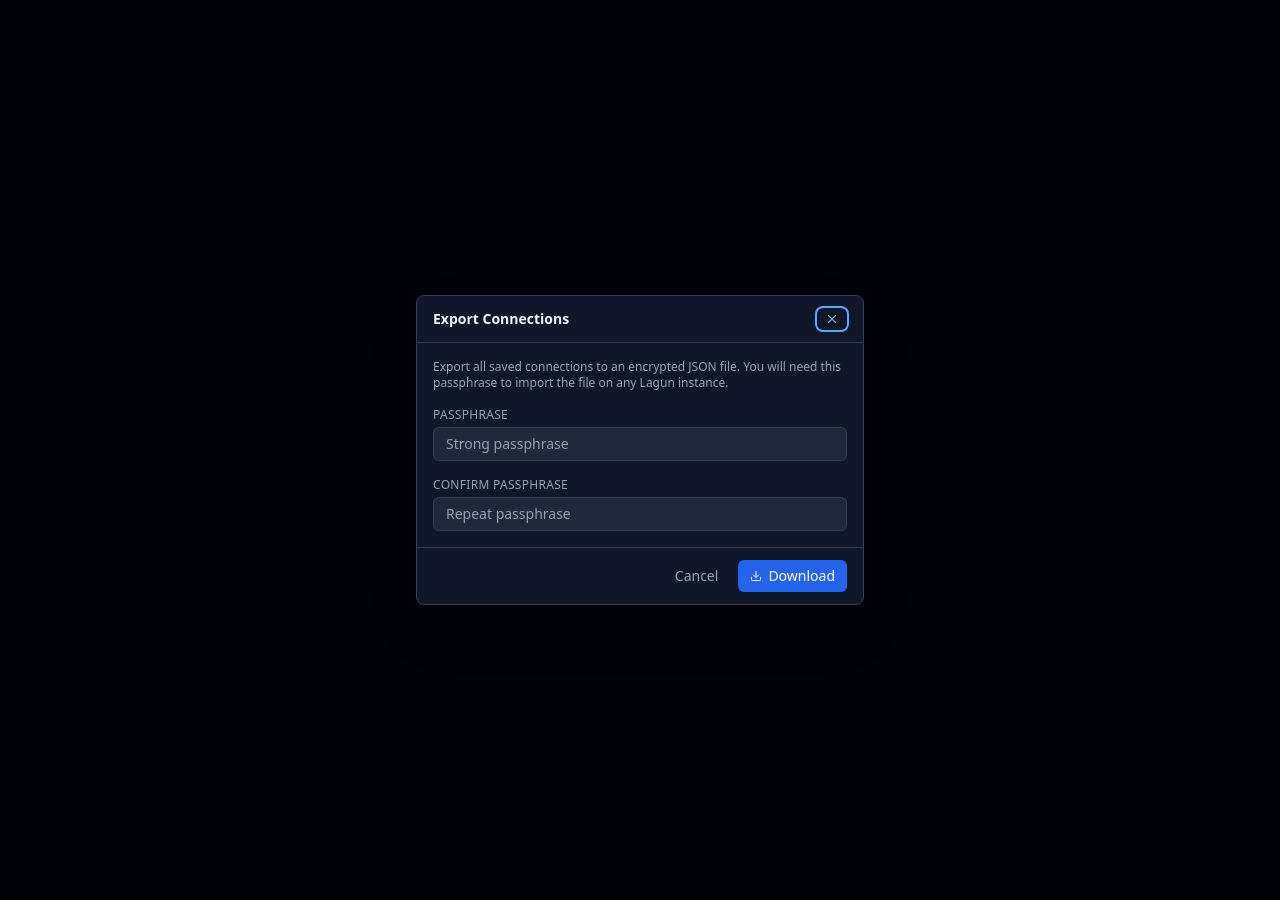
Test case: config dialogs loading announcements › announces an export in progress while the button keeps its label
The width and height of the screenshot is (1280, 900).
Type "hunter2" into the password field labelled "Passphrase".
click(640, 444); type("hunter2")  # box left=433, top=427, right=847, bottom=461
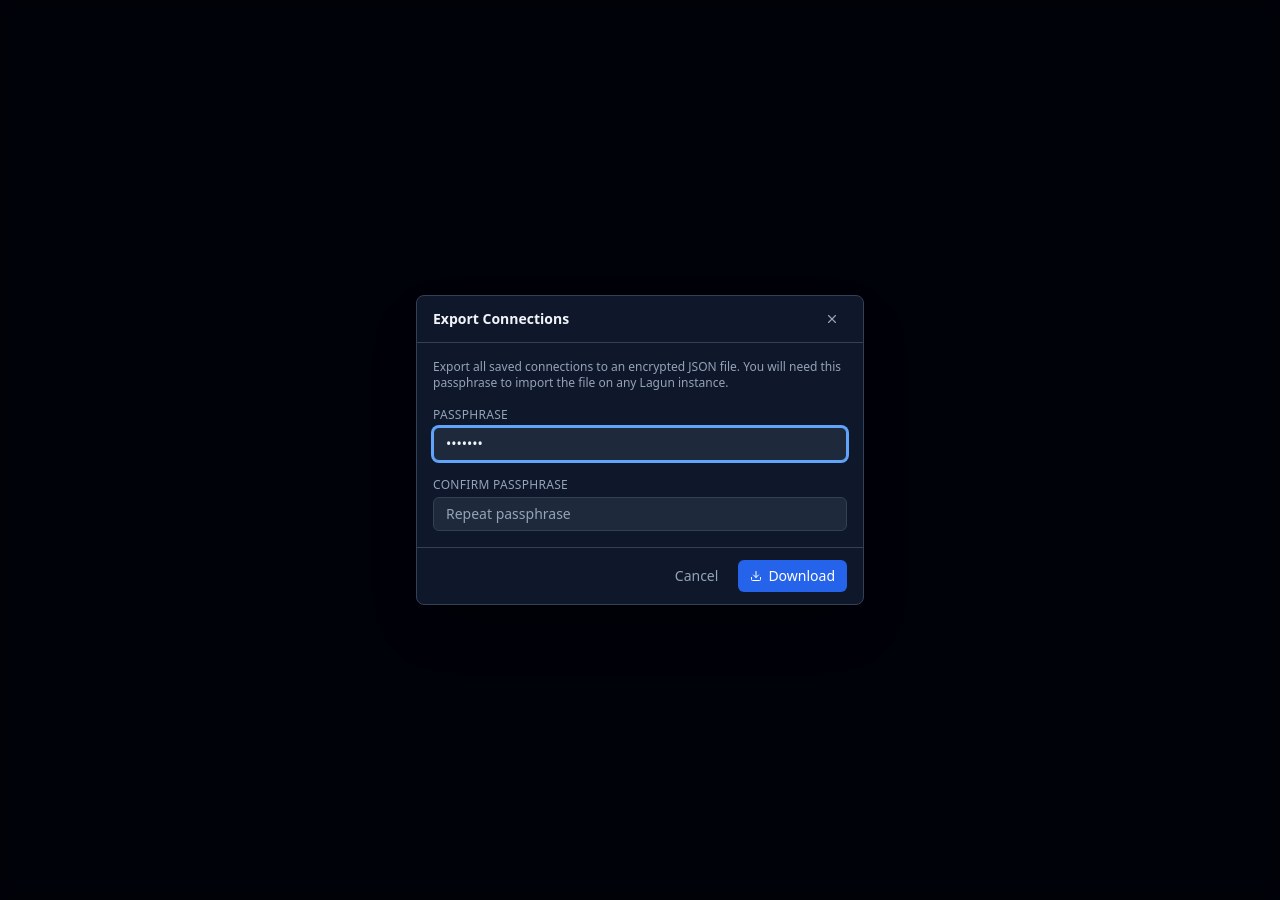
Type "hunter2" into the password field labelled "Confirm passphrase".
click(640, 514); type("hunter2")  # box left=433, top=497, right=847, bottom=531
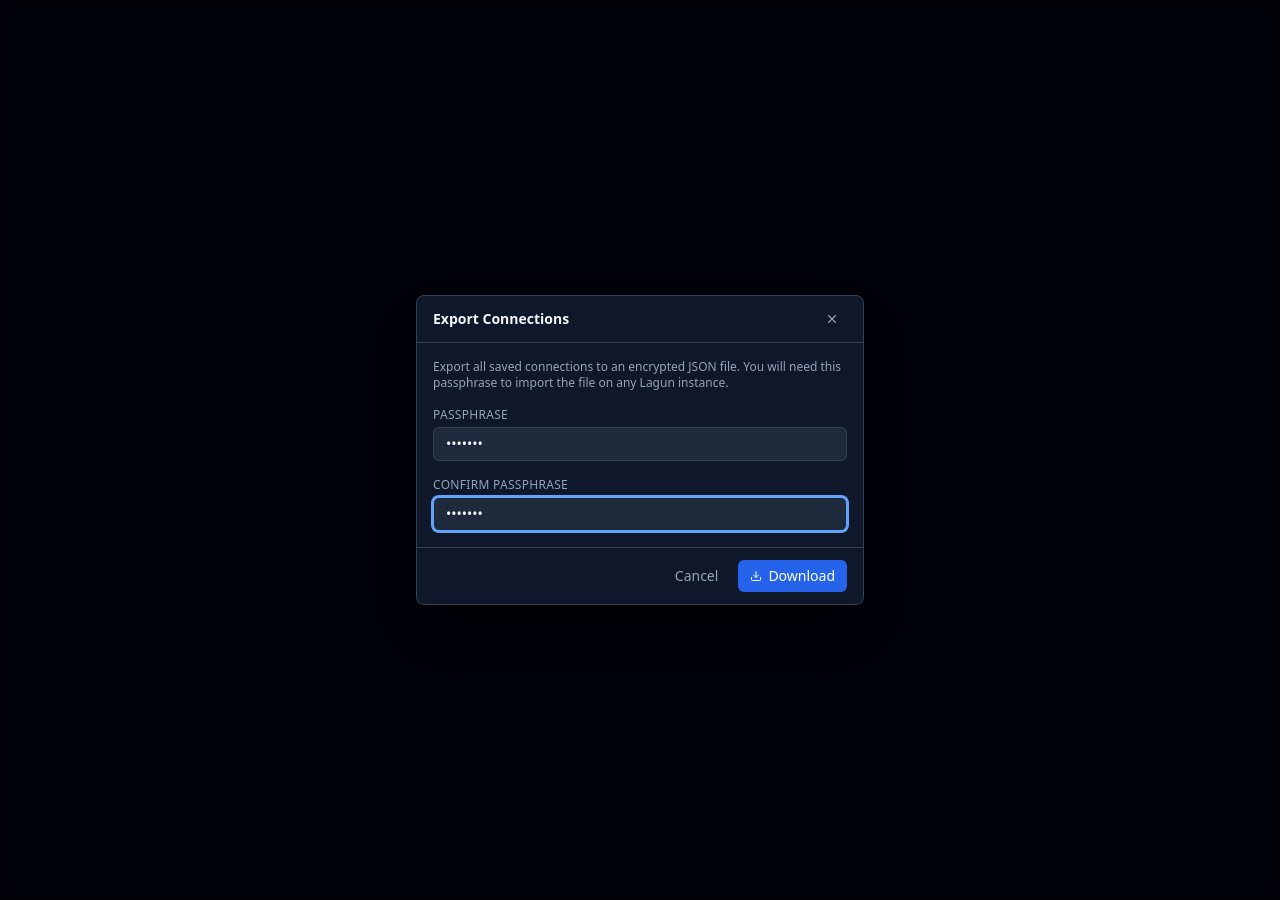
Click the button "Download".
click(793, 576)  # box left=738, top=560, right=847, bottom=592
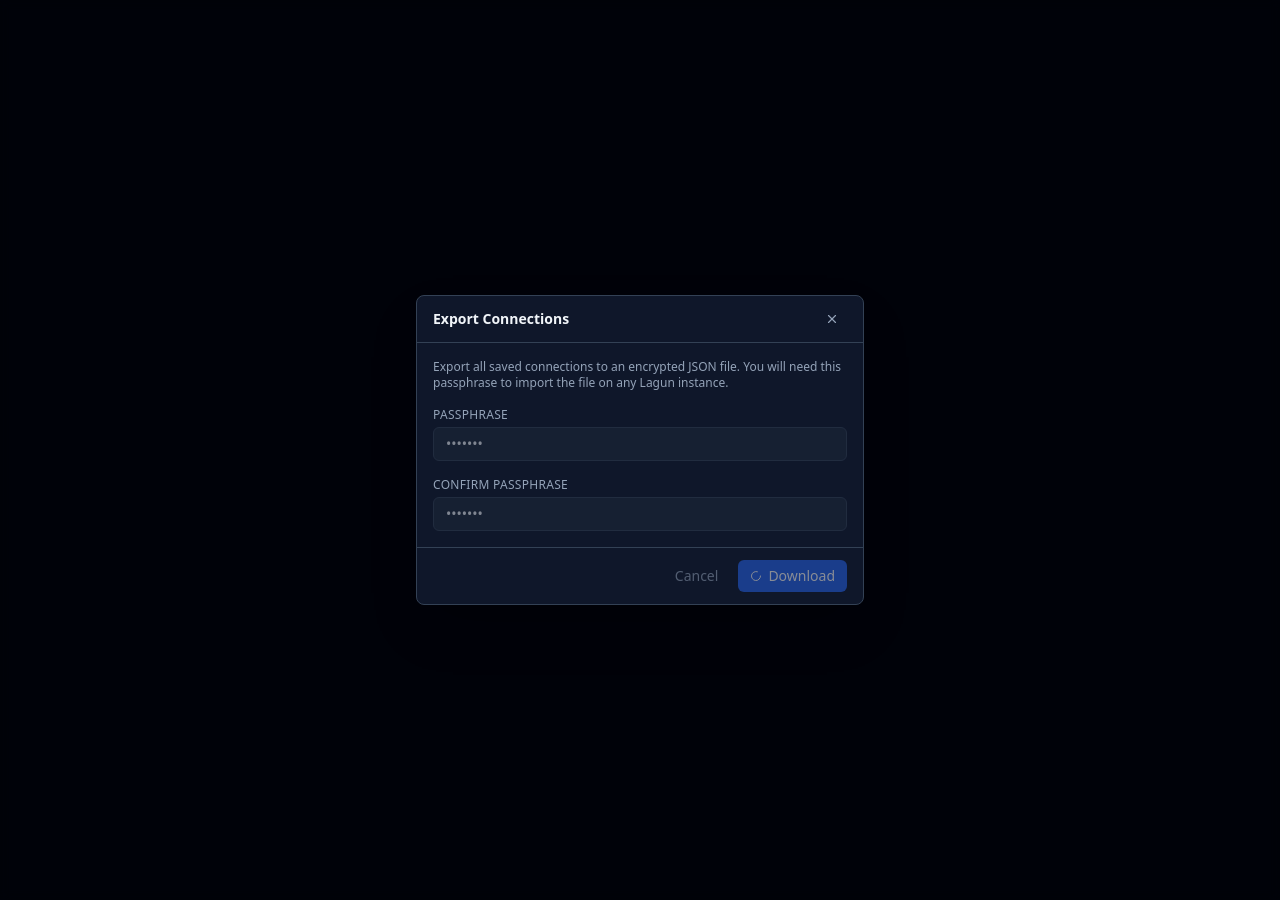
Now the button "Download" is disabled, box left=738, top=560, right=847, bottom=592
